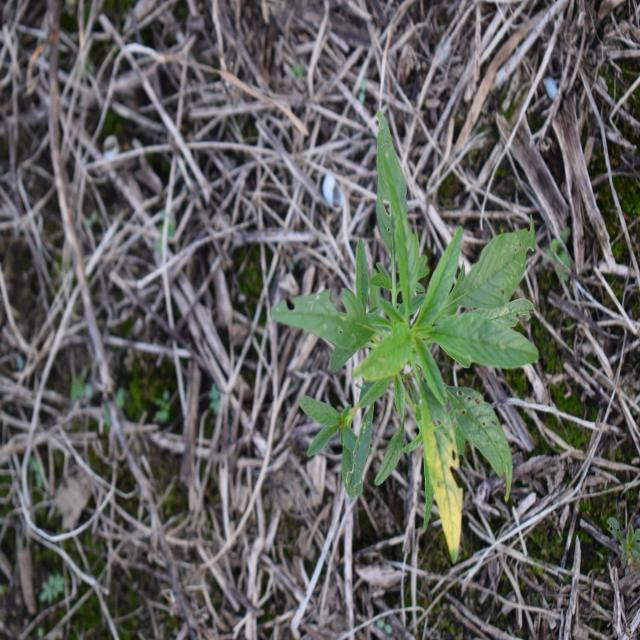Waterhemp: (266, 106, 541, 568)
